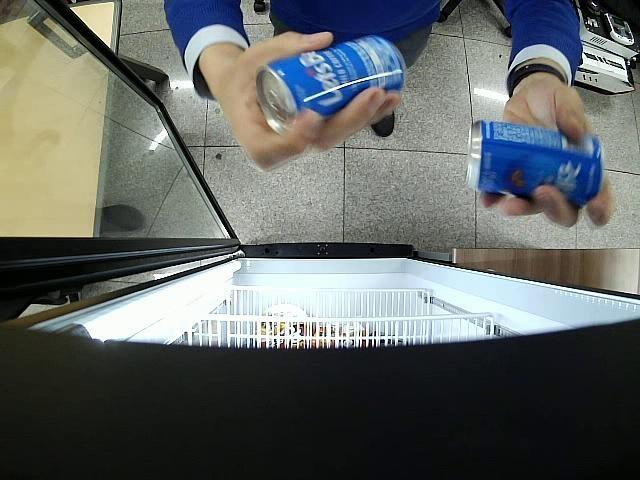15_letsbe: (258, 36, 408, 136), (465, 120, 607, 206)
